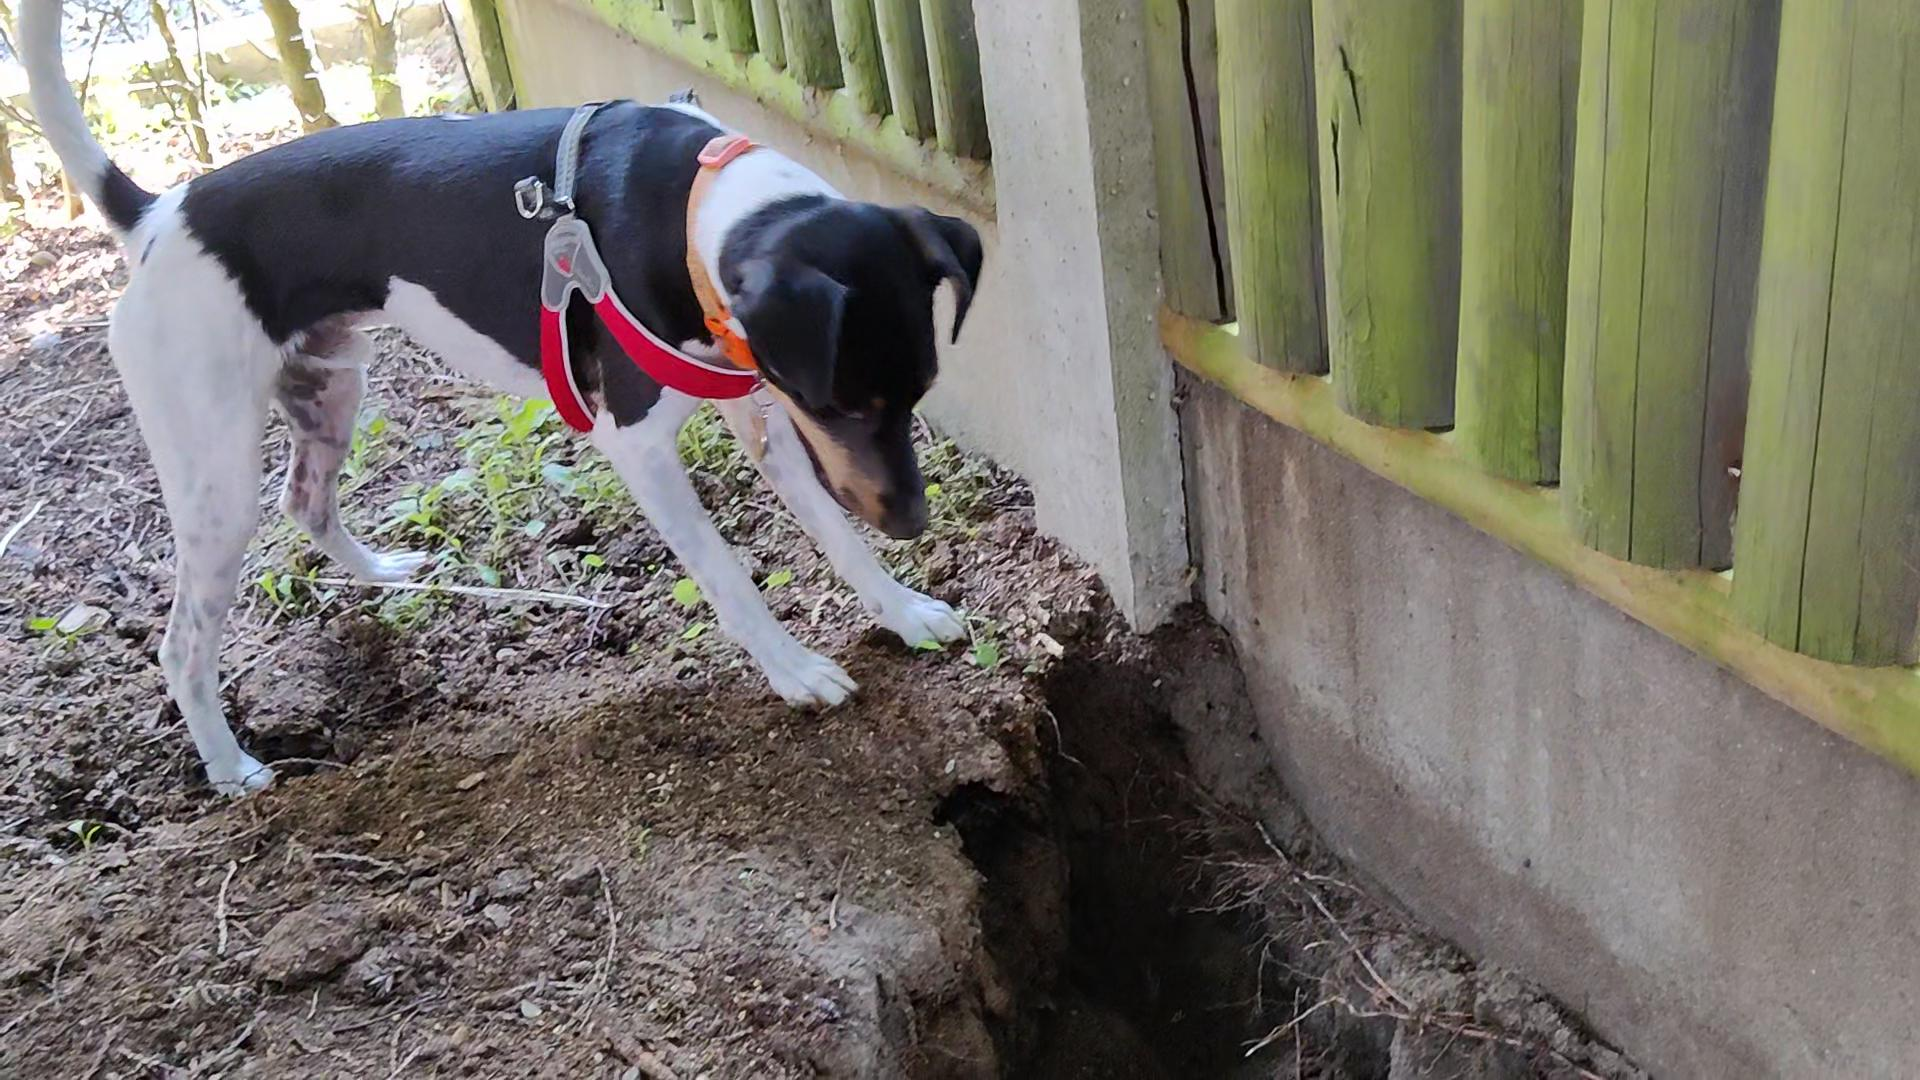Dog: (11, 0, 1017, 807)
